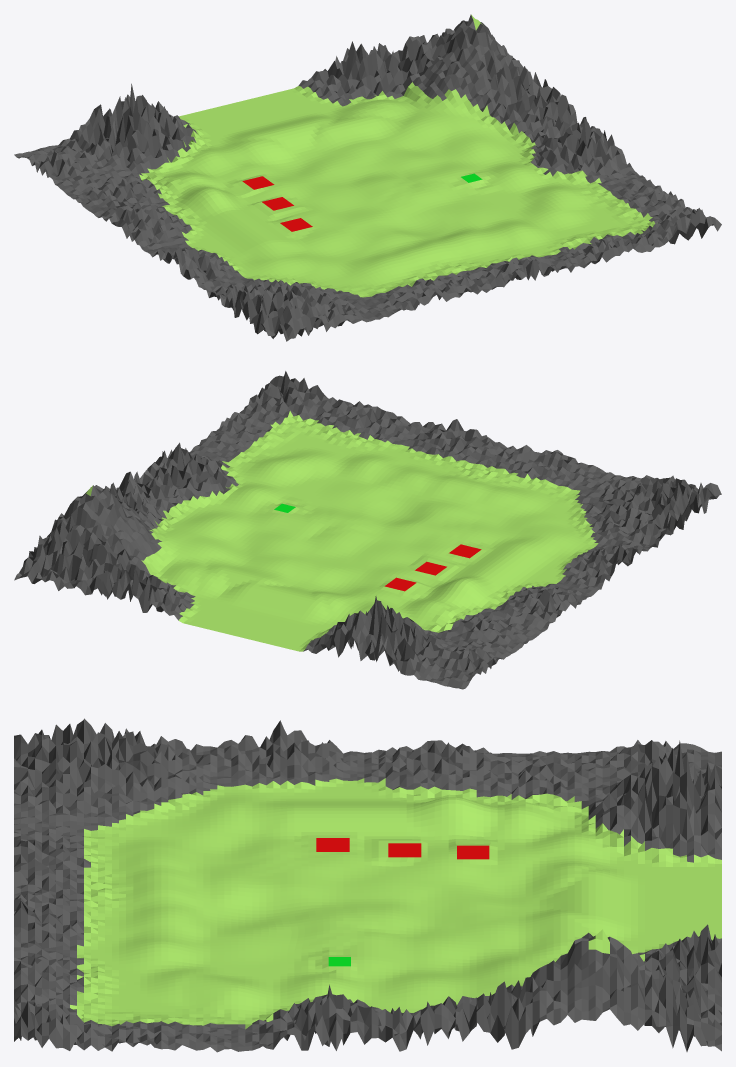
File: Floor.fbx
3 renders of one model, top to bottom at view 1: azimuth 30°, elevation 25°; view 2: azimuth 150°, elevation 25°; view 3: azimuth 270°, elevation 25°, orthographic. The views are drawn at different scales.
Visible parts, largest first — view 1: Plane; view 2: Plane; view 3: Plane.
Boxes of the visible parts, <box> form: Plane: <box>14,14,721,341</box>; Plane: <box>14,371,721,689</box>; Plane: <box>14,718,721,1052</box>.
Size of the model in its own units: 32500 by 5416 by 32500.
